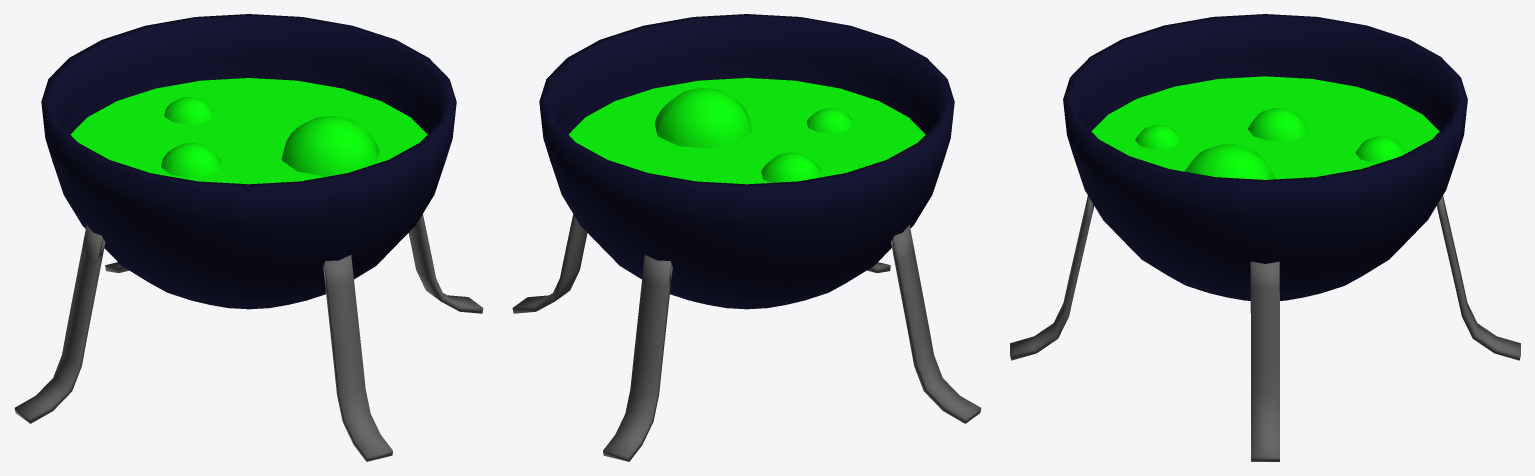
Rendered from Cauldron_2.fbx.
The picture shows the model from 3 angles, left to right: view 1: azimuth 30°, elevation 25°; view 2: azimuth 150°, elevation 25°; view 3: azimuth 270°, elevation 25°; orthographic projection. The views are drawn at different scales.
Visible parts, largest first — view 1: Cauldron_2; view 2: Cauldron_2; view 3: Cauldron_2.
Boxes of the visible parts, <box> form: Cauldron_2: <box>14,14,483,461</box>; Cauldron_2: <box>512,14,981,461</box>; Cauldron_2: <box>1010,14,1520,461</box>.
Size of the model in its own units: 2.52 by 1.39 by 2.52.
